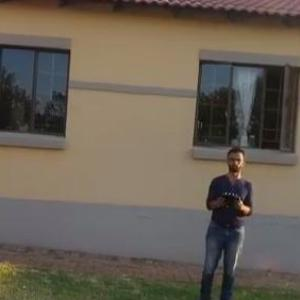follow: (188, 135, 258, 299)
